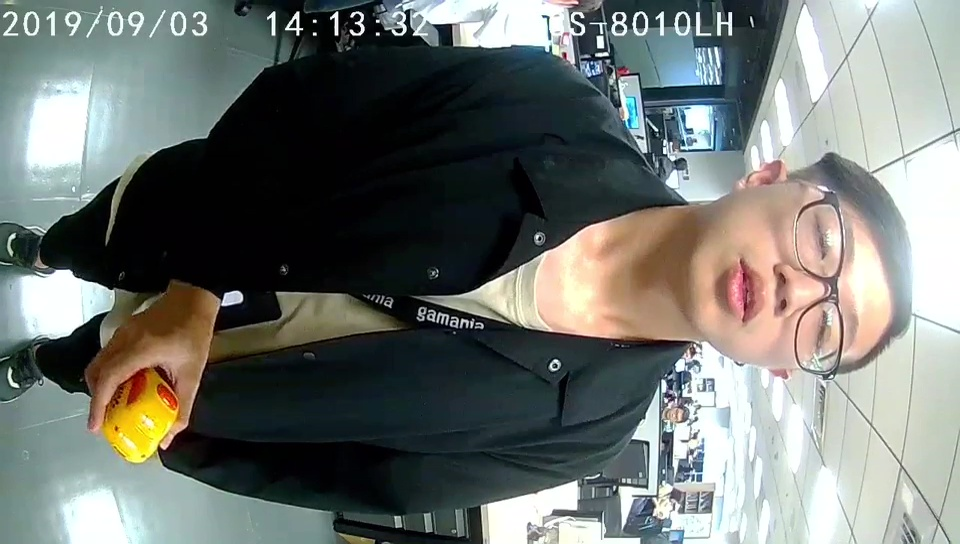car: (106, 365, 180, 463)
